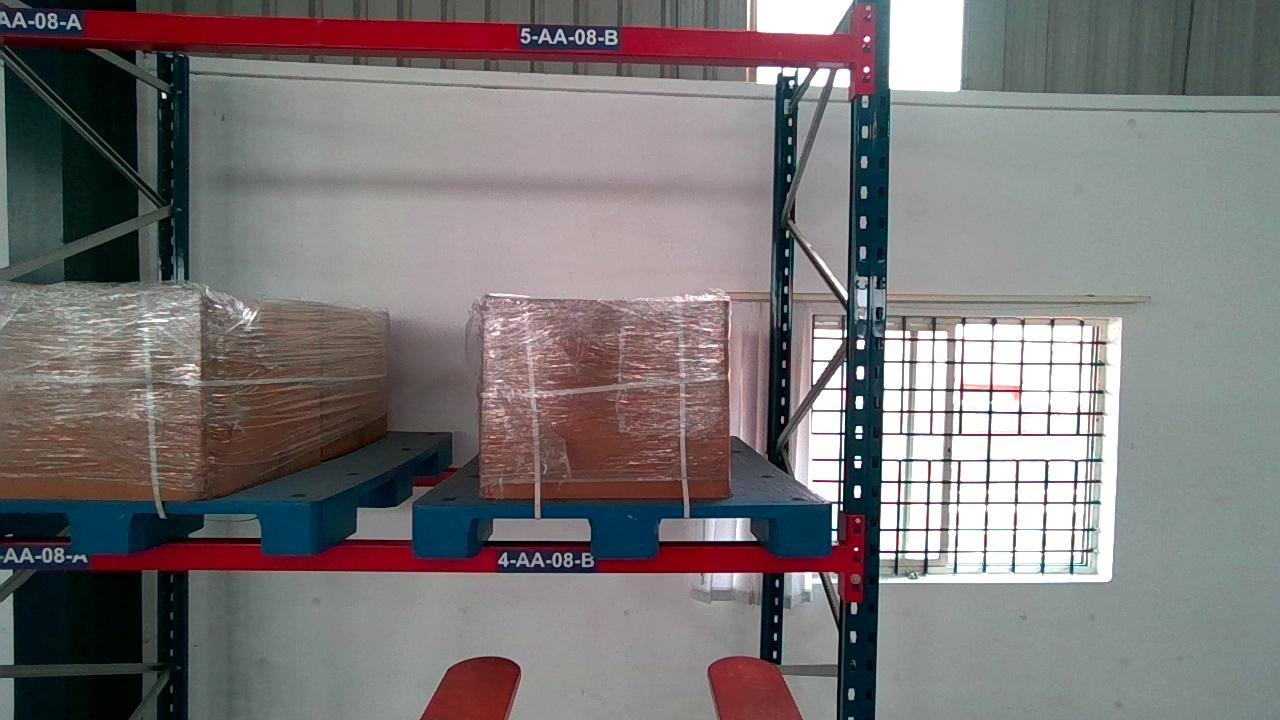h_rack: (7, 8, 871, 64), (14, 537, 848, 571)
small_pallet: (410, 503, 828, 557), (1, 498, 315, 552)
